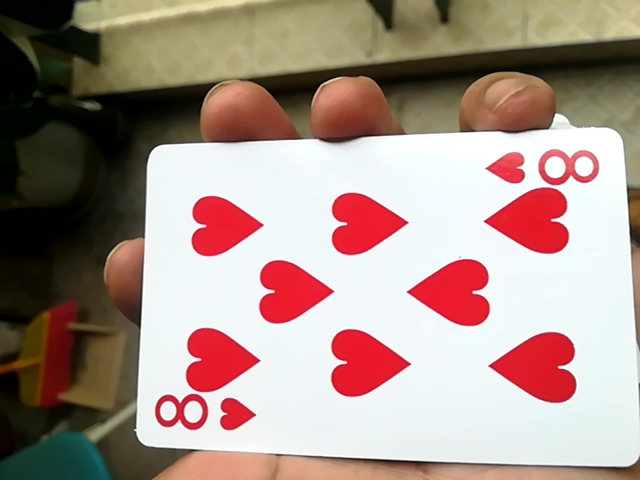hx 8: (127, 124, 621, 472)
